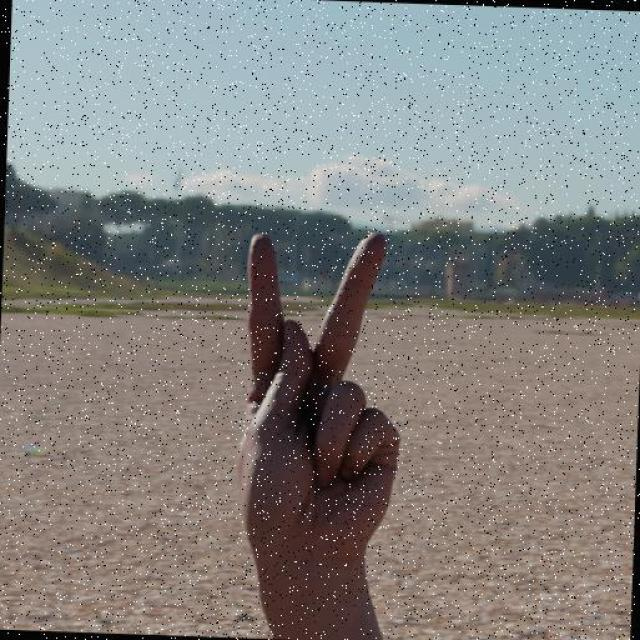K: (224, 223, 411, 575)
